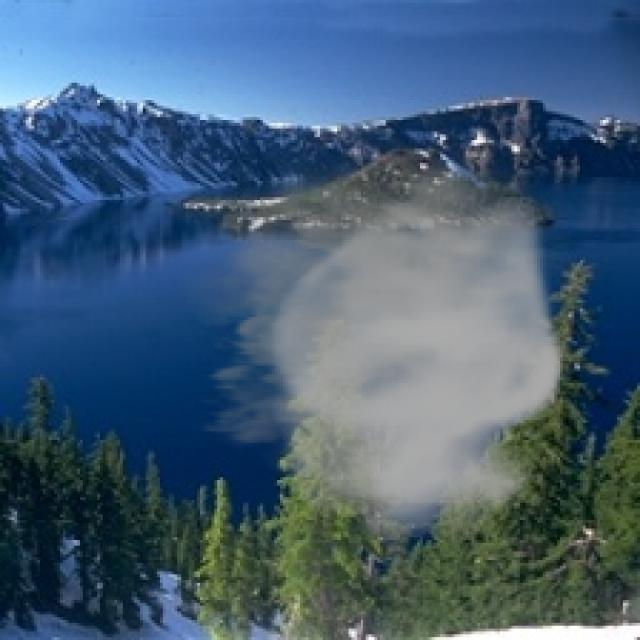smoke: (163, 143, 571, 546)
